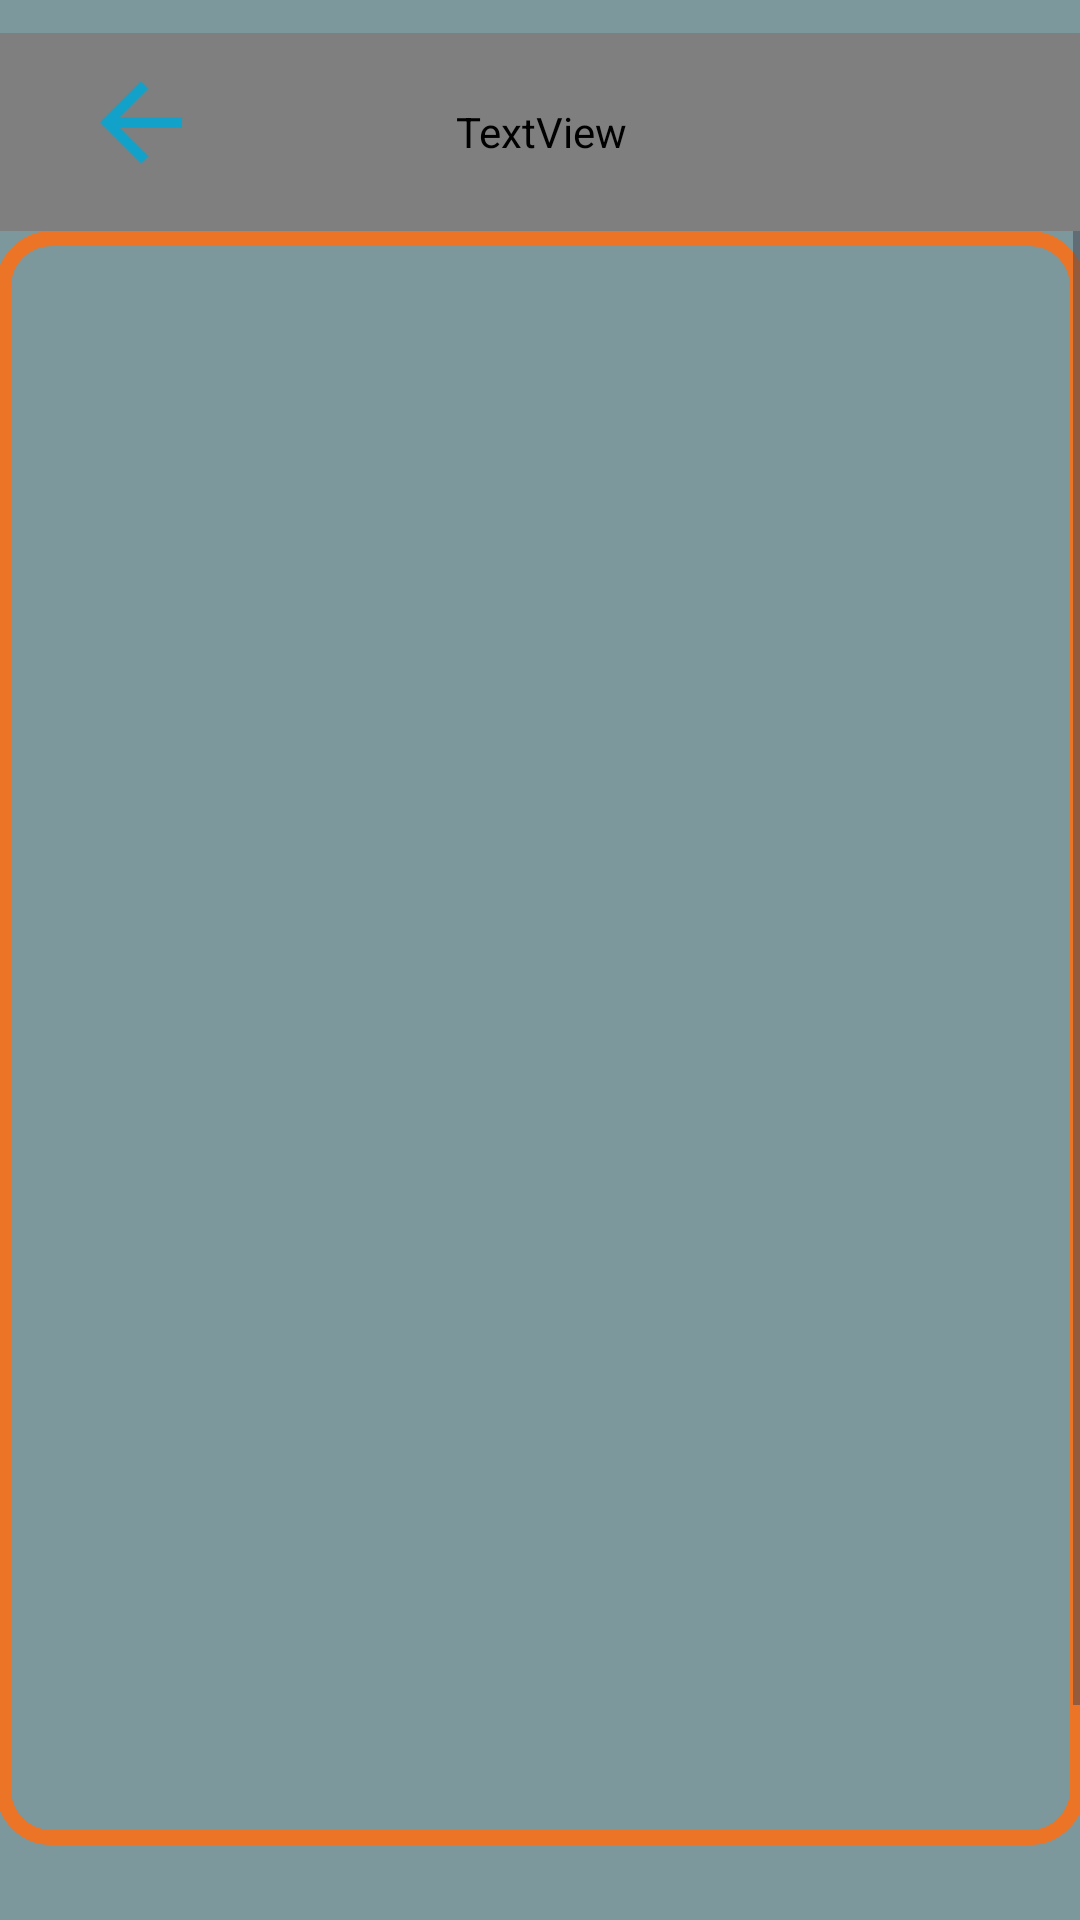

Where to tap for icons on this 1080×1920 app screen, as point (x, y):
regresar: point (141, 122)
